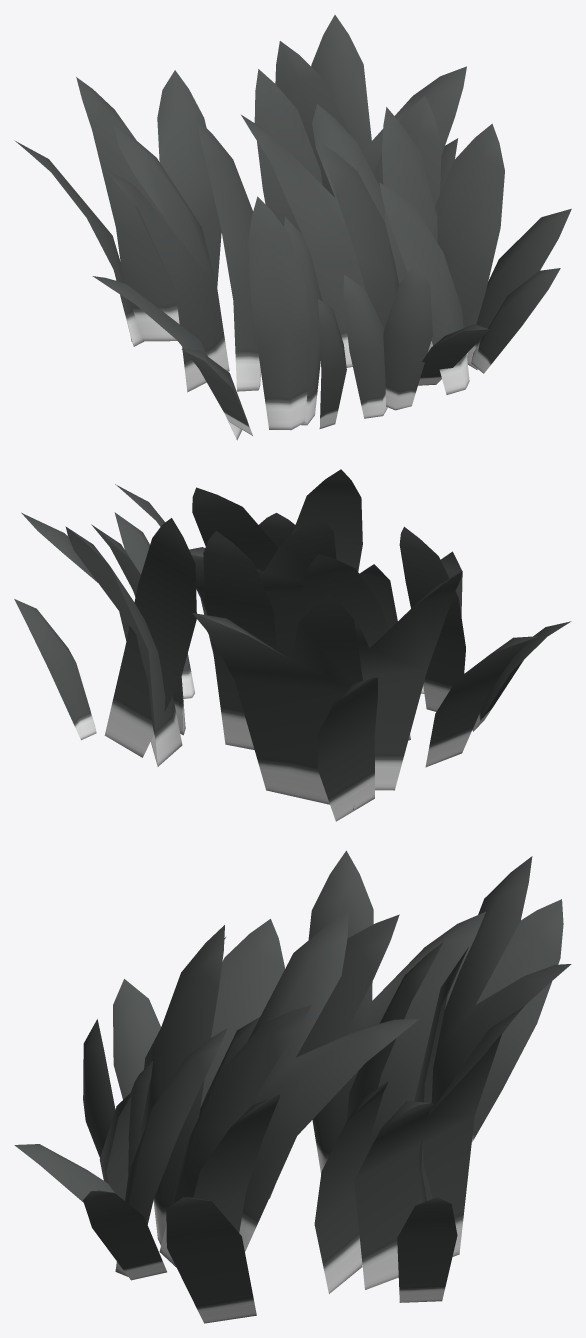
File: plant_2.fbx
The picture shows the model from 3 angles, top to bottom: view 1: azimuth 30°, elevation 25°; view 2: azimuth 150°, elevation 25°; view 3: azimuth 270°, elevation 25°; orthographic projection. The views are drawn at different scales.
Parts seen in each view (by area): view 1: plant_2; view 2: plant_2; view 3: plant_2.
Part boxes in pixels (left/top/right/bottom): plant_2: left=14, top=15, right=571, bottom=440; plant_2: left=14, top=469, right=571, bottom=821; plant_2: left=14, top=850, right=571, bottom=1323.
Size of the model in its own units: 1.27 by 0.7642 by 1.15.
